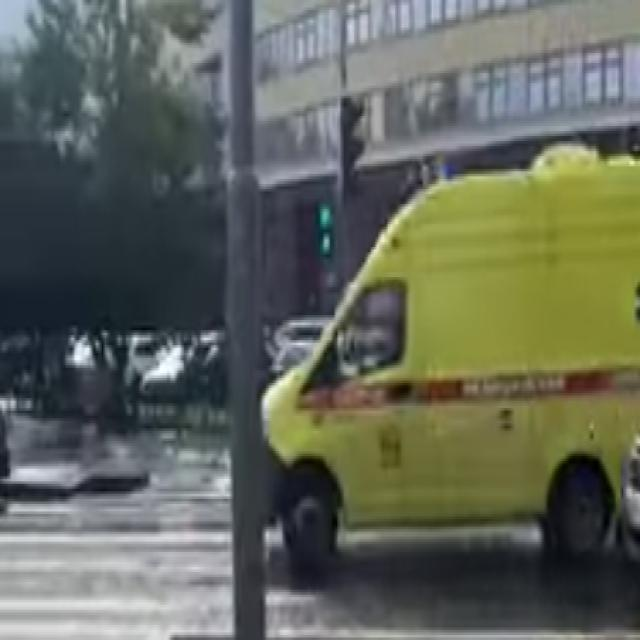intensive care unit: (266, 144, 640, 575)
